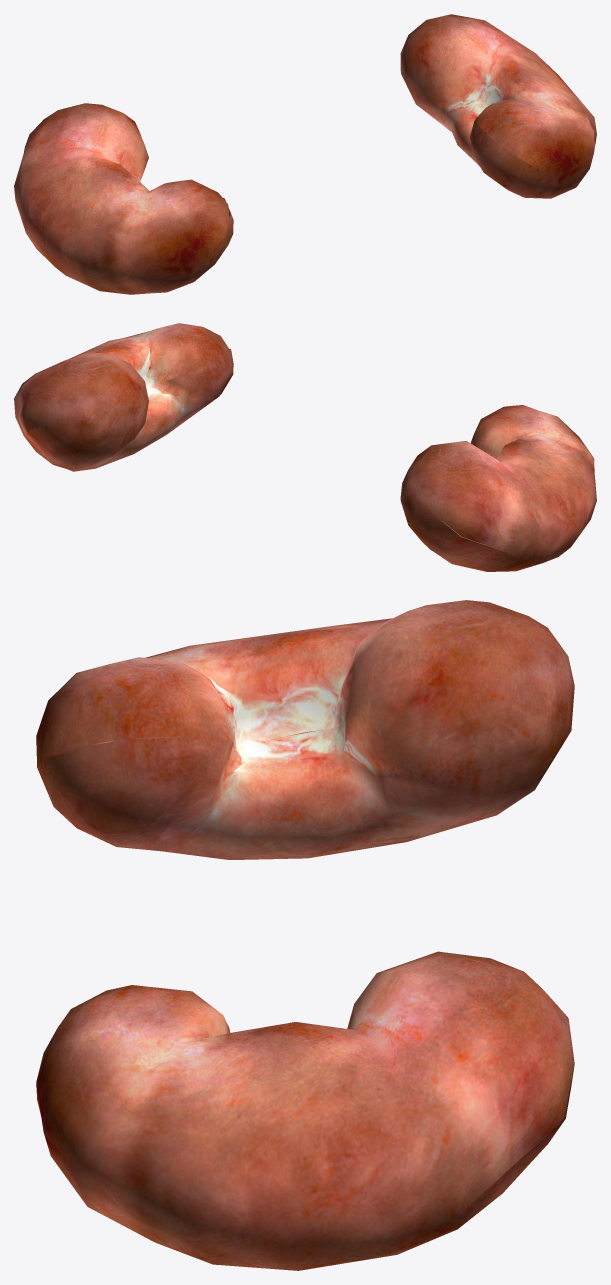
Rendered from asset8.glb.
3 renders of one model, top to bottom at view 1: azimuth 30°, elevation 25°; view 2: azimuth 150°, elevation 25°; view 3: azimuth 270°, elevation 25°, orthographic. The views are drawn at different scales.
Parts seen in each view (by area): view 1: Kidney_Left_pivot.003, Kidney_Left_pivot; view 2: Kidney_Left_pivot.003, Kidney_Left_pivot; view 3: Kidney_Left_pivot, Kidney_Left_pivot.003.
Boxes of the visible parts, box(x1,y1,x2,y2) form: Kidney_Left_pivot.003: box(14, 103, 233, 294); Kidney_Left_pivot: box(400, 14, 596, 198); Kidney_Left_pivot.003: box(400, 405, 596, 571); Kidney_Left_pivot: box(14, 323, 233, 471); Kidney_Left_pivot: box(36, 951, 574, 1270); Kidney_Left_pivot.003: box(36, 600, 574, 859).
Bounding box in the file's own units: 0.3275 × 0.0767 × 0.1426.
2 materials, 2 textured.
